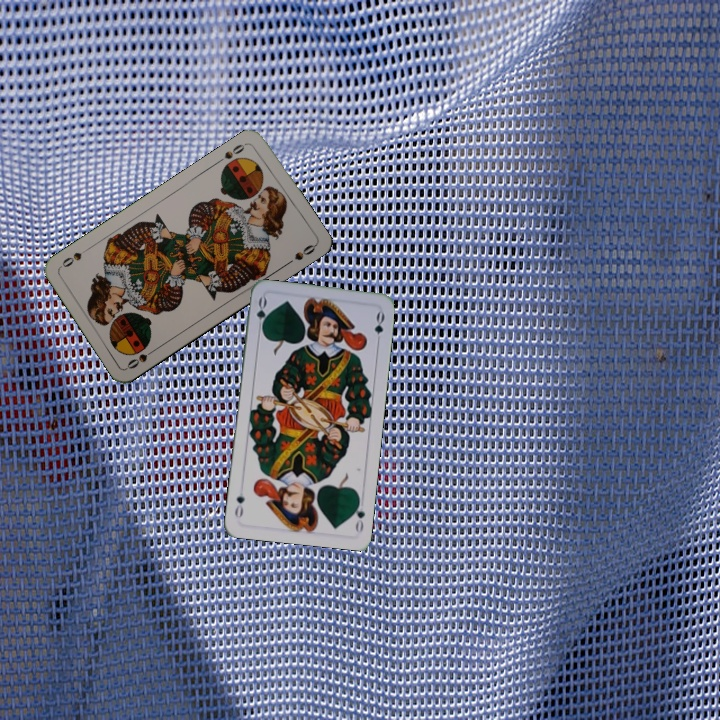GO: (349, 494, 367, 535), (253, 294, 269, 335)
SO: (123, 344, 160, 372), (220, 138, 250, 162)
